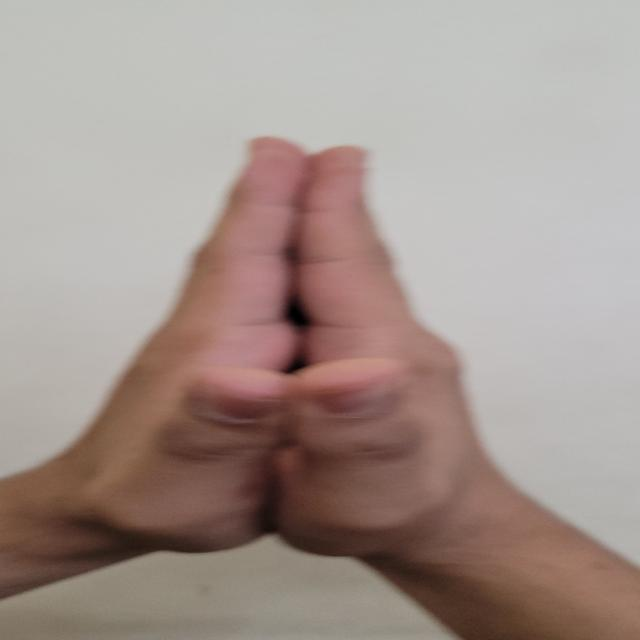Thank You: (57, 56, 531, 574)
